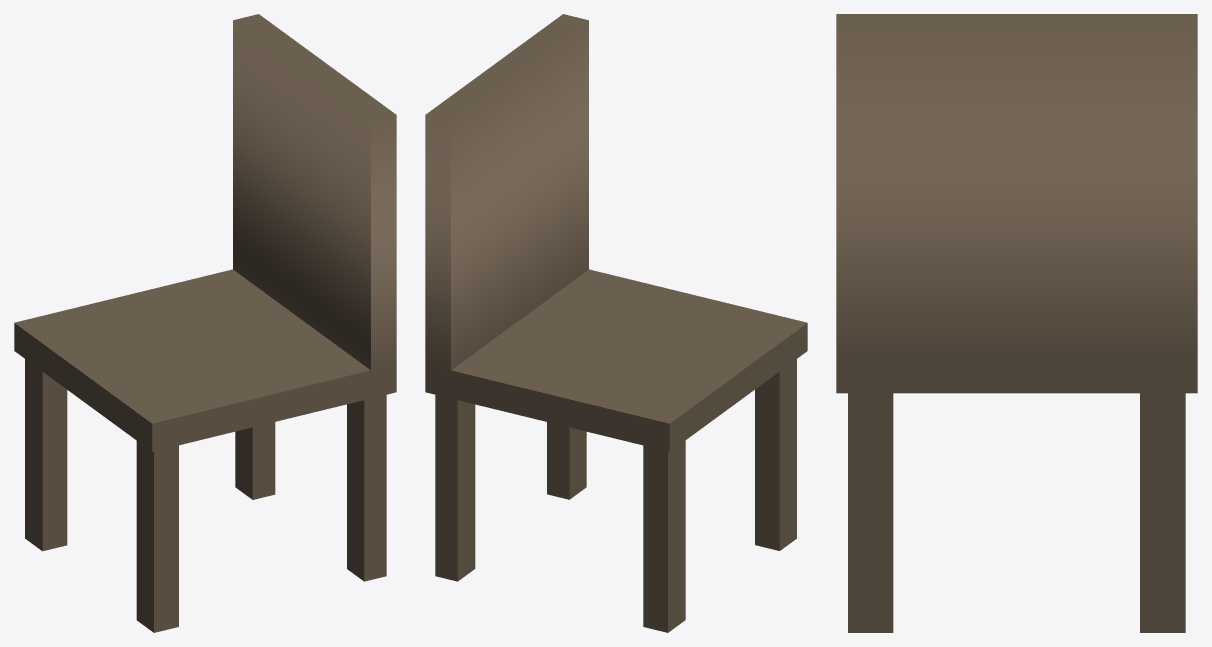
Rendered from Chair.fbx.
The picture shows the model from 3 angles, left to right: view 1: azimuth 30°, elevation 25°; view 2: azimuth 150°, elevation 25°; view 3: azimuth 270°, elevation 25°; orthographic projection. The views are drawn at different scales.
Parts seen in each view (by area): view 1: Table1; view 2: Table1; view 3: Table1.
Part boxes in pixels (x1,y1,x2,y2): Table1: (14,14,396,632); Table1: (425,14,807,632); Table1: (836,14,1197,632).
Bounding box in the file's own units: 0.7522 × 1.36 × 0.735.
